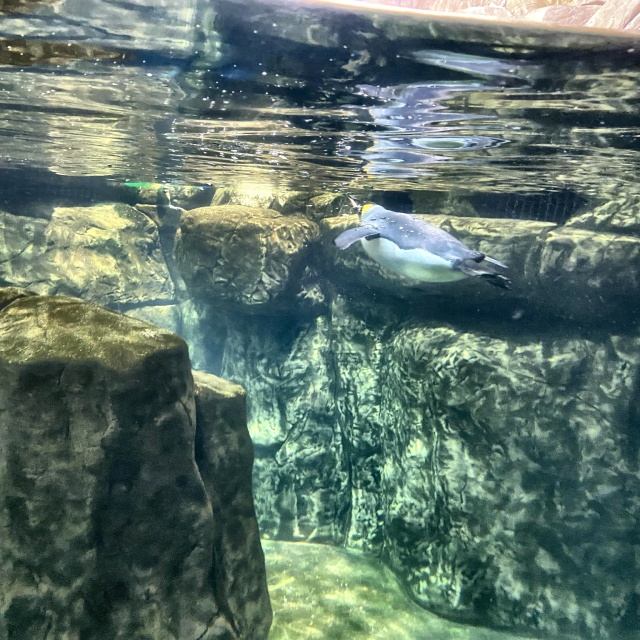penguin: (322, 195, 507, 292)
